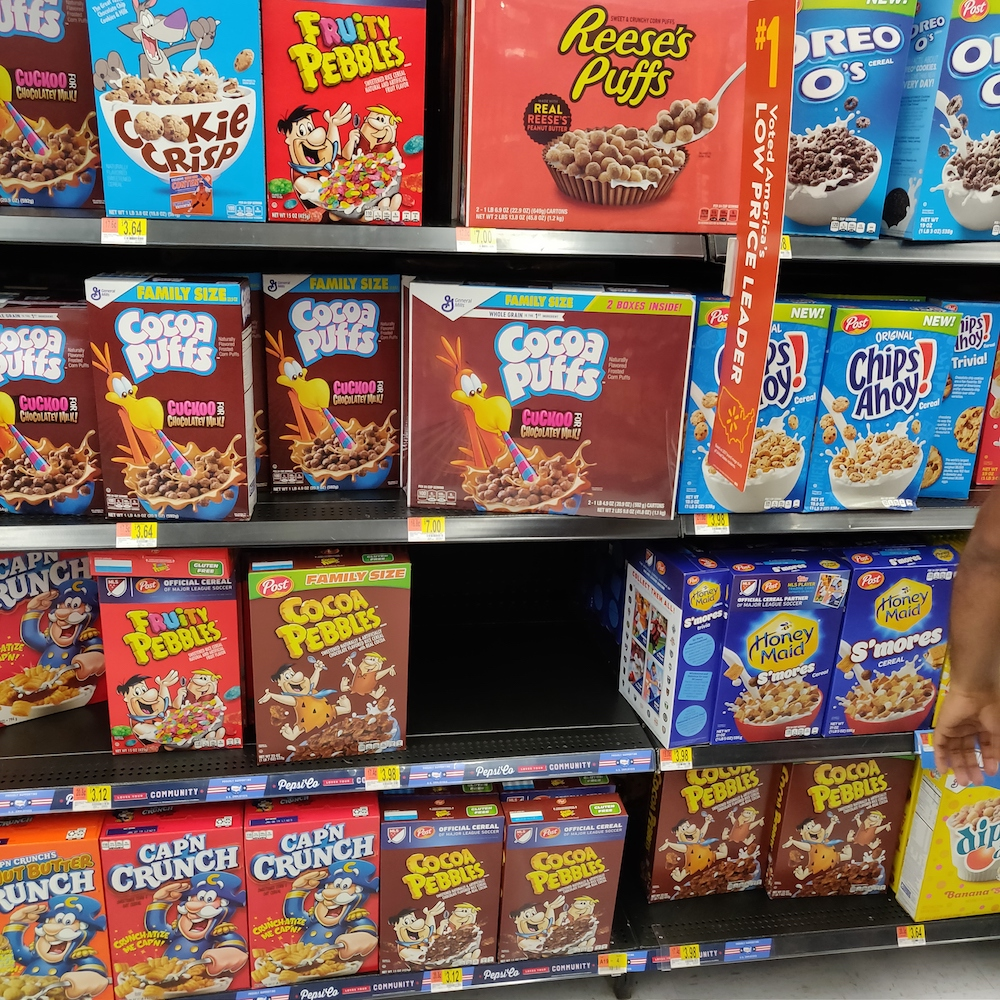Chips Ahoys-565717529: (832, 307, 933, 518)
Cocoa Pebbles-555517893: (262, 579, 409, 755), (630, 772, 768, 910), (382, 812, 503, 955), (789, 760, 908, 899), (501, 815, 612, 960)
Honey Maid Graham -563424385: (718, 575, 820, 738)
Oreo-563424384: (790, 1, 898, 230)
